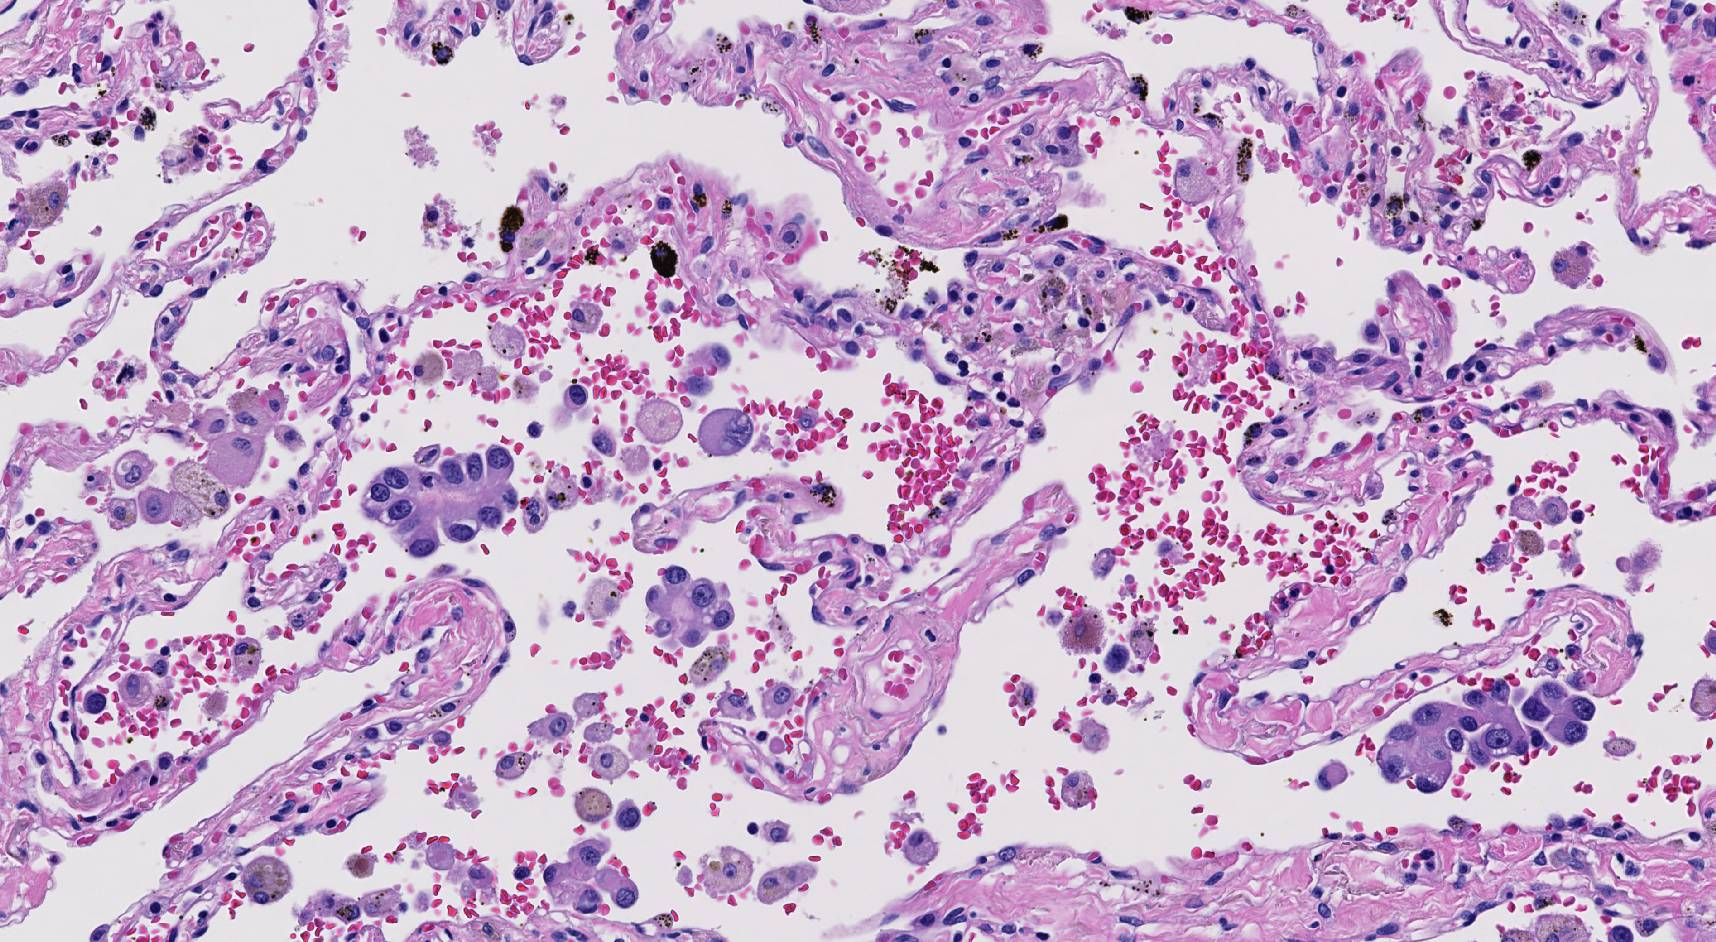stas: (1377, 679, 1599, 795), (362, 441, 519, 562), (544, 837, 645, 916), (644, 565, 739, 646)
